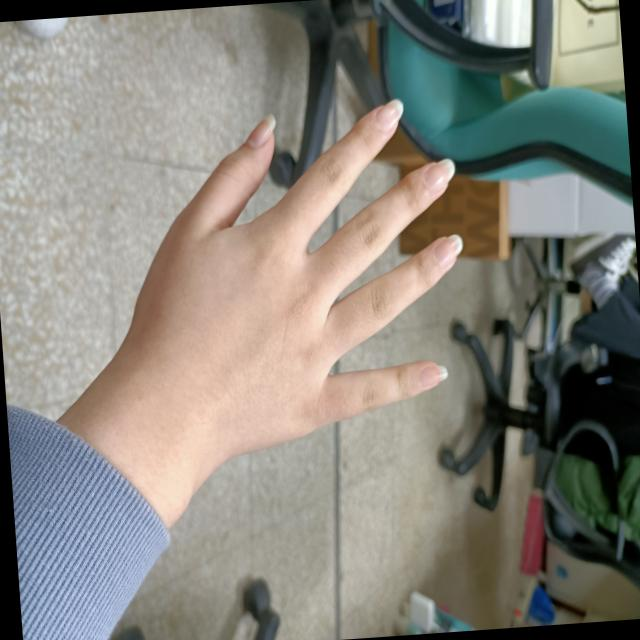Nail: (244, 113, 275, 148), (424, 158, 454, 194), (433, 234, 461, 268), (375, 100, 402, 131), (418, 364, 447, 386)
